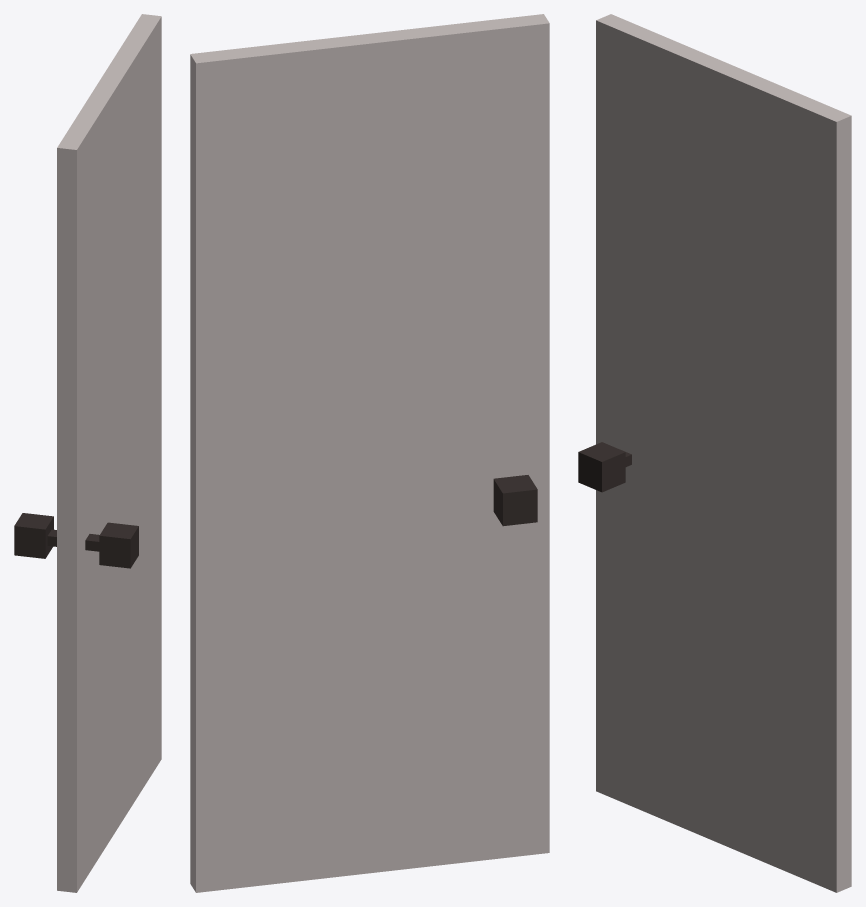
The model's file is porta1-3.glb.
The picture shows the model from 3 angles, left to right: view 1: azimuth 30°, elevation 25°; view 2: azimuth 150°, elevation 25°; view 3: azimuth 270°, elevation 25°; orthographic projection. The views are drawn at different scales.
Bounding box in the file's own units: 0.8079 × 2.5 × 0.8035.
Materials: 1 (1 with a texture image).
